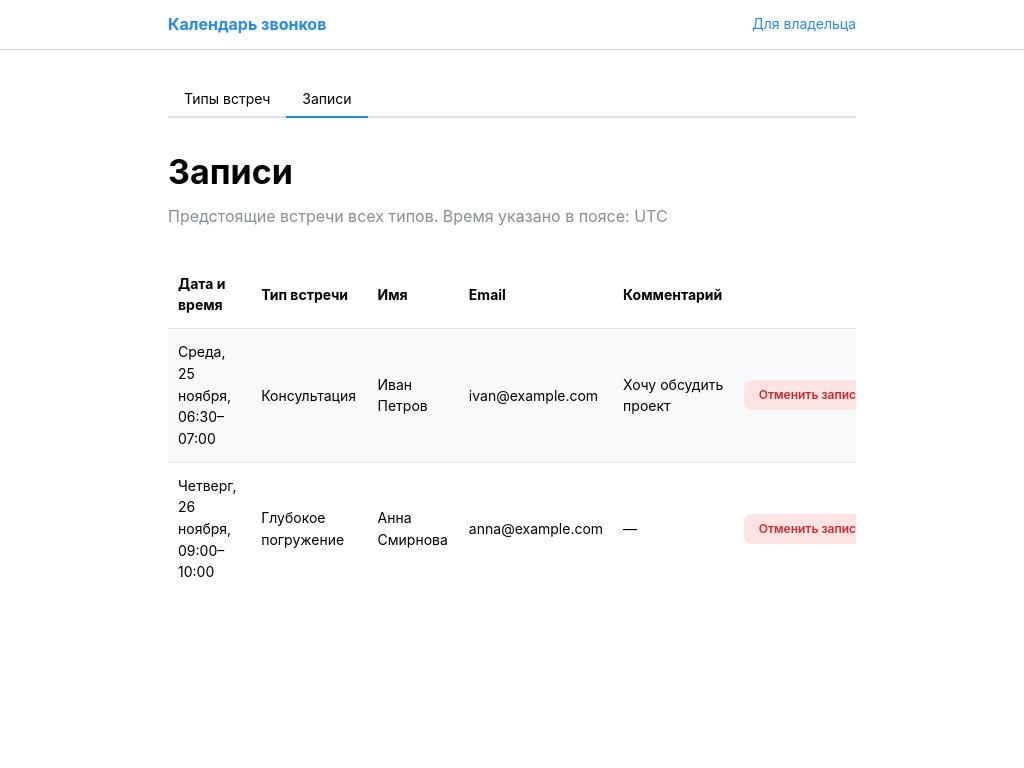
Scenario: отмена записи: ответ 404 — сообщение об ошибке и список перечитывается
Click the button "Отменить запись" in the row of "Консультация" at (811, 395), box left=744, top=380, right=878, bottom=410
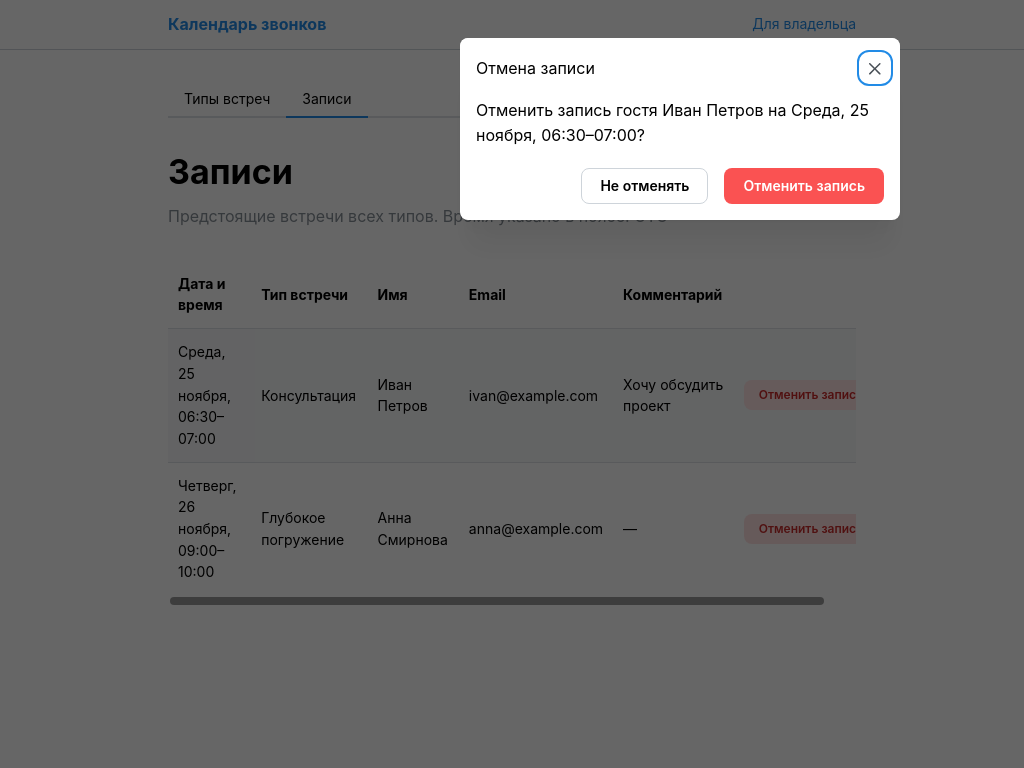
Click the button "Отменить запись" at (804, 186), box left=724, top=168, right=884, bottom=204
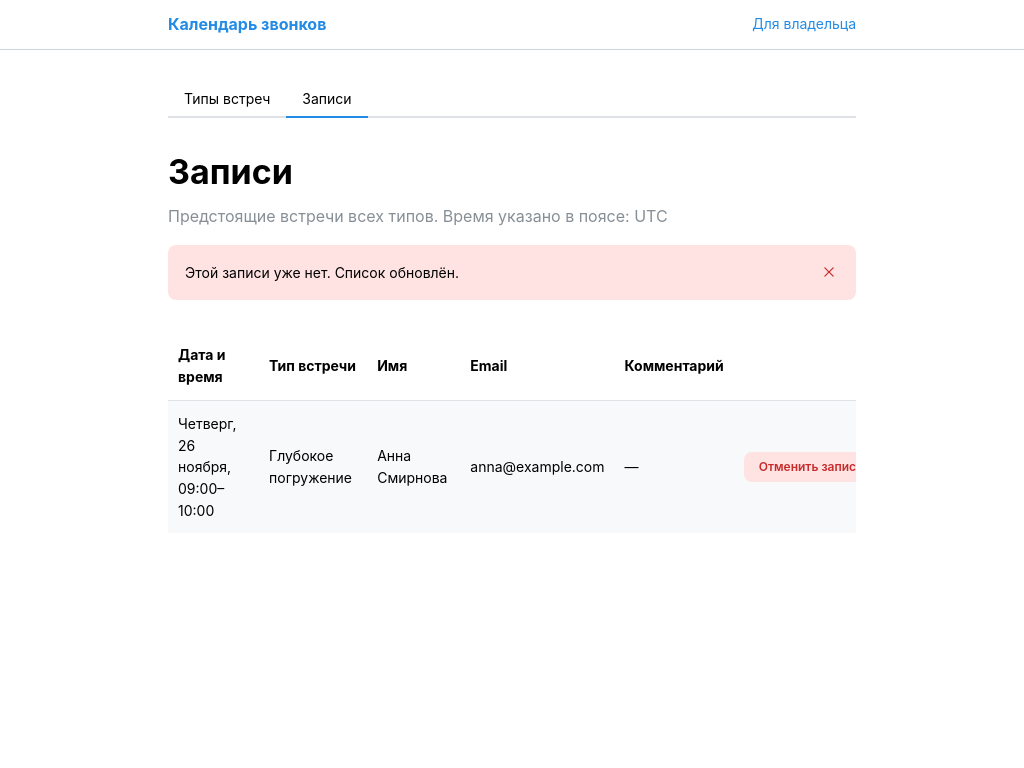
Expected: the cell "Анна Смирнова" is shown, left=367, top=400, right=460, bottom=533
Expected: the message reads "Этой записи уже нет. Список обновлён.", left=185, top=264, right=459, bottom=281
Expected: the cell "Иван Петров" is gone
